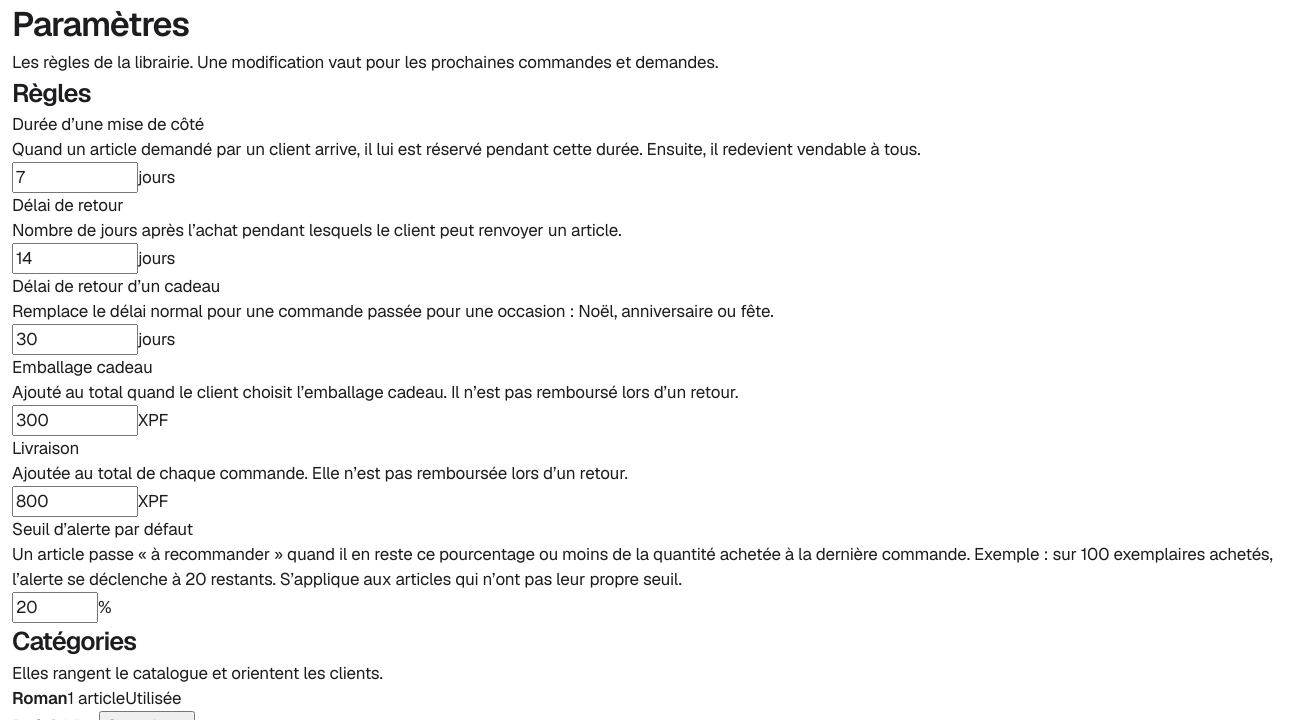
Scenario: page des paramètres › affiche sous le champ l erreur renvoyée par le serveur
Replace the text in the number field named "Durée d’une mise de côté (jours)" with "10" at (75,178), box [12,162,138,193]
(page scrolled)
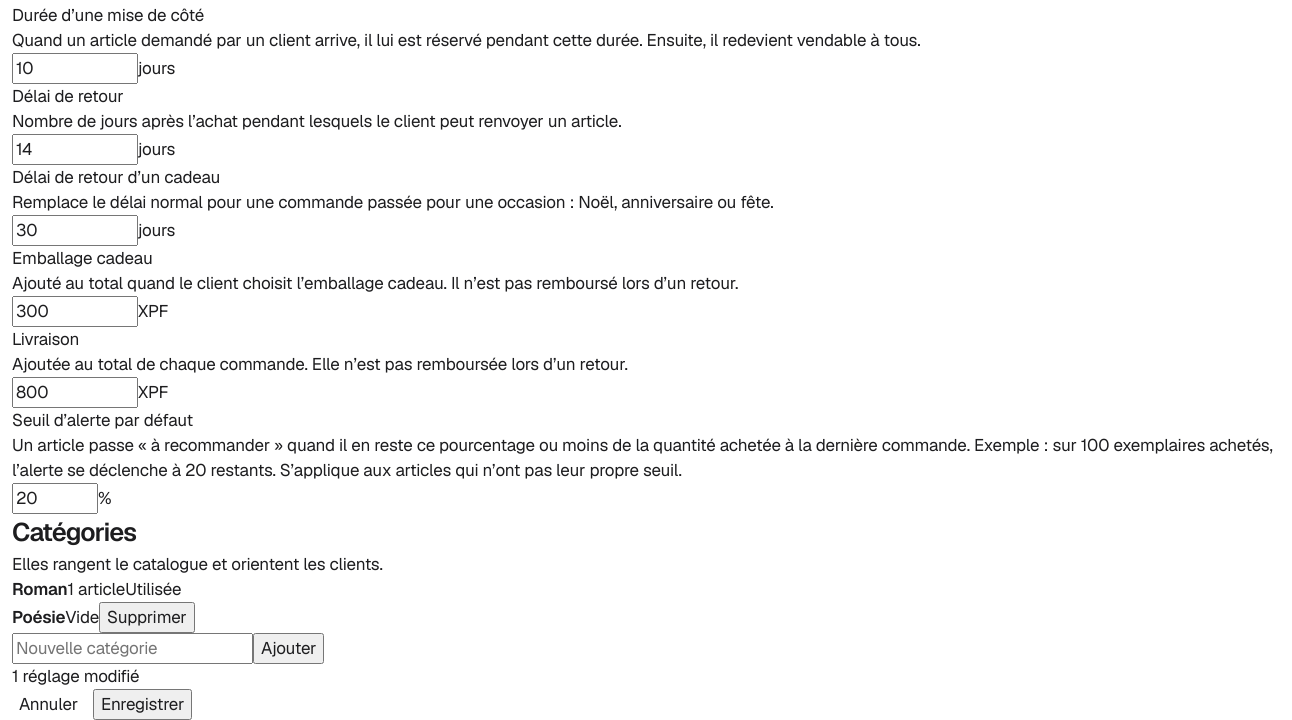
Click the button "Enregistrer" at (143,704), box [93,688,192,719]
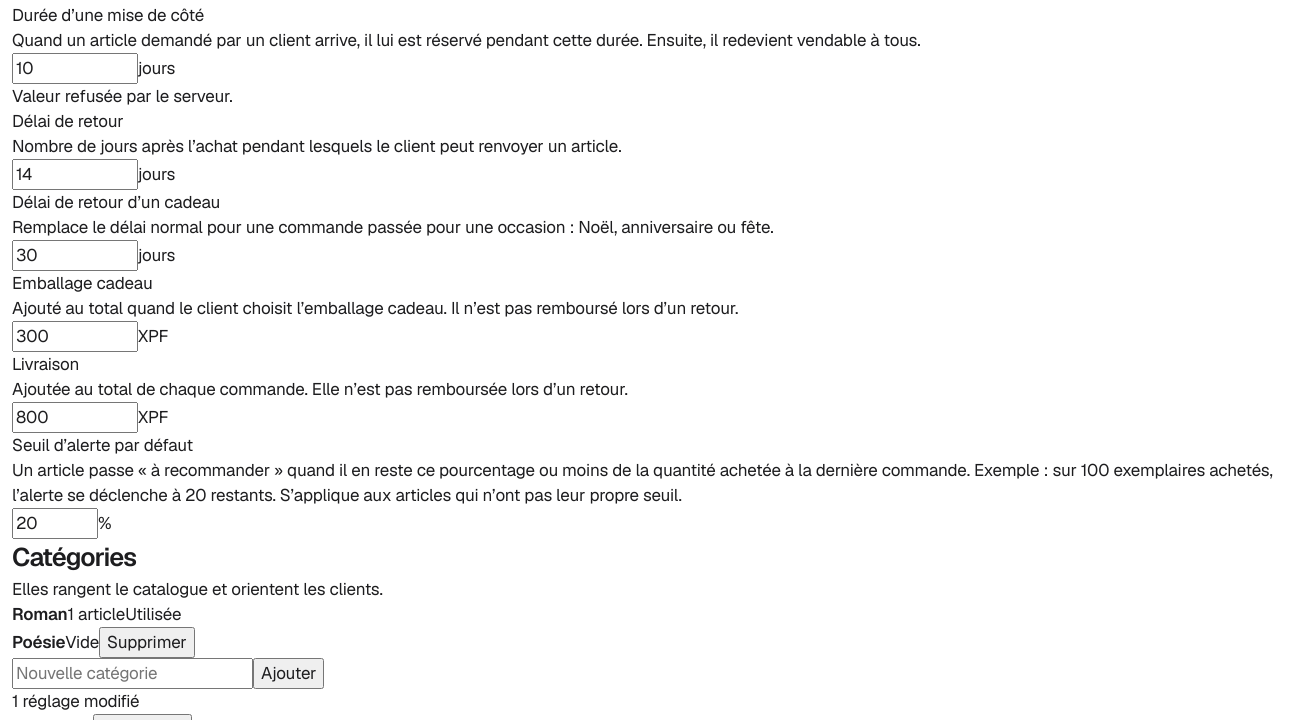
expect the text "Valeur refusée par le serveur." is shown: met, box [12,85,232,107]
